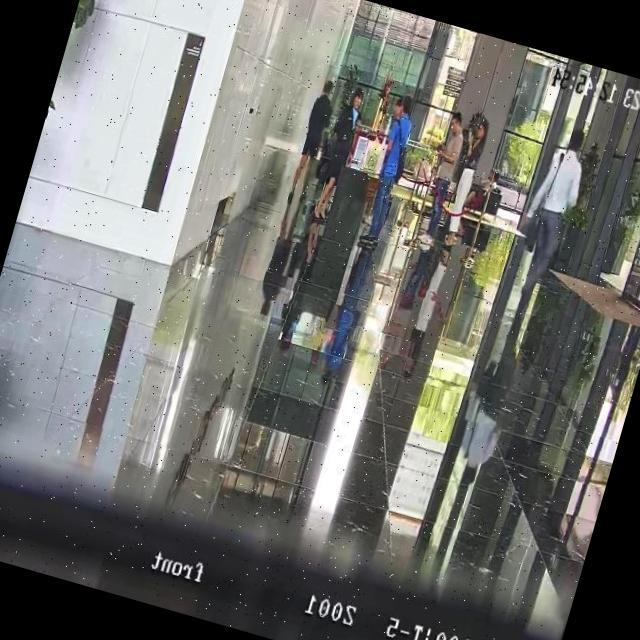person: (495, 120, 596, 335), (354, 94, 422, 246), (308, 84, 369, 224), (410, 109, 470, 244), (286, 76, 341, 200), (446, 112, 492, 218)
